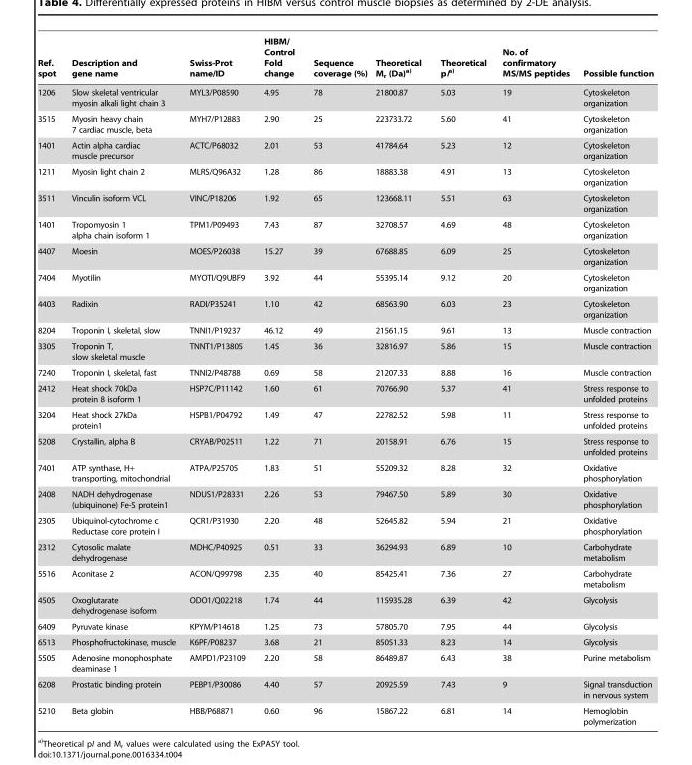table: (37, 36, 653, 725)
table column: (63, 36, 182, 725), (493, 36, 575, 725), (575, 36, 653, 725), (182, 36, 253, 725), (303, 36, 370, 725), (430, 36, 493, 725), (370, 36, 430, 725), (253, 36, 303, 725), (37, 36, 63, 725)
table column header: (37, 36, 653, 83)
table row: (37, 36, 653, 83), (37, 458, 653, 486), (37, 83, 653, 110), (37, 110, 653, 137), (37, 163, 653, 190), (37, 216, 653, 243), (37, 295, 653, 322), (37, 406, 653, 433), (37, 512, 653, 539), (37, 565, 653, 592), (37, 649, 653, 676), (37, 137, 653, 163), (37, 190, 653, 216), (37, 243, 653, 269), (37, 269, 653, 295), (37, 338, 653, 364), (37, 380, 653, 406), (37, 486, 653, 512), (37, 539, 653, 565), (37, 592, 653, 618), (37, 676, 653, 702), (37, 433, 653, 458), (37, 702, 653, 725), (37, 322, 653, 338), (37, 364, 653, 380), (37, 618, 653, 634), (37, 634, 653, 649)
